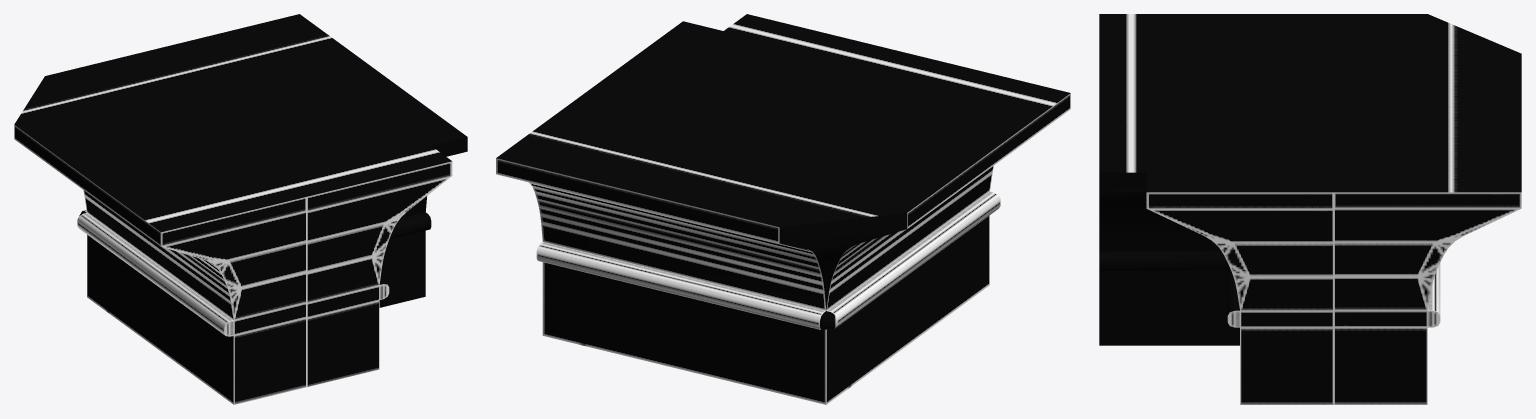
The model's file is Roof07.fbx.
3 renders of one model, left to right at view 1: azimuth 30°, elevation 25°; view 2: azimuth 150°, elevation 25°; view 3: azimuth 270°, elevation 25°, orthographic. The views are drawn at different scales.
Parts seen in each view (by area): view 1: Roof03_1; view 2: Roof03_1; view 3: Roof03_1.
Part boxes in pixels (x1=…): Roof03_1: x1=14, y1=14, x2=467, y2=404; Roof03_1: x1=496, y1=14, x2=1070, y2=404; Roof03_1: x1=1099, y1=14, x2=1521, y2=404.
Bounding box in the file's own units: 450 × 250 × 450.
1 material, 1 textured.
